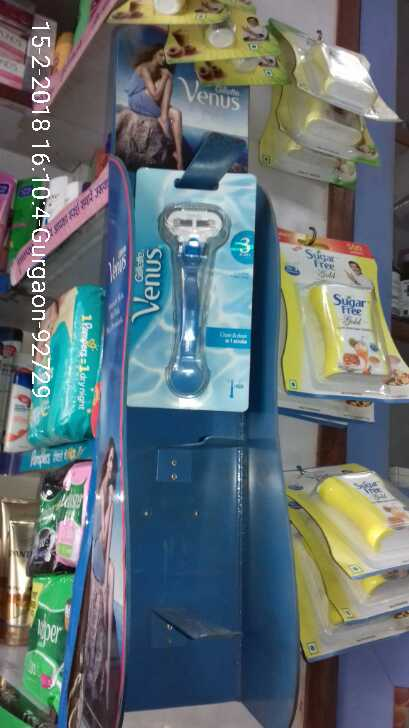beauty: (127, 165, 256, 410)
pharmacy: (22, 579, 69, 701), (25, 487, 57, 566), (56, 474, 85, 557)
